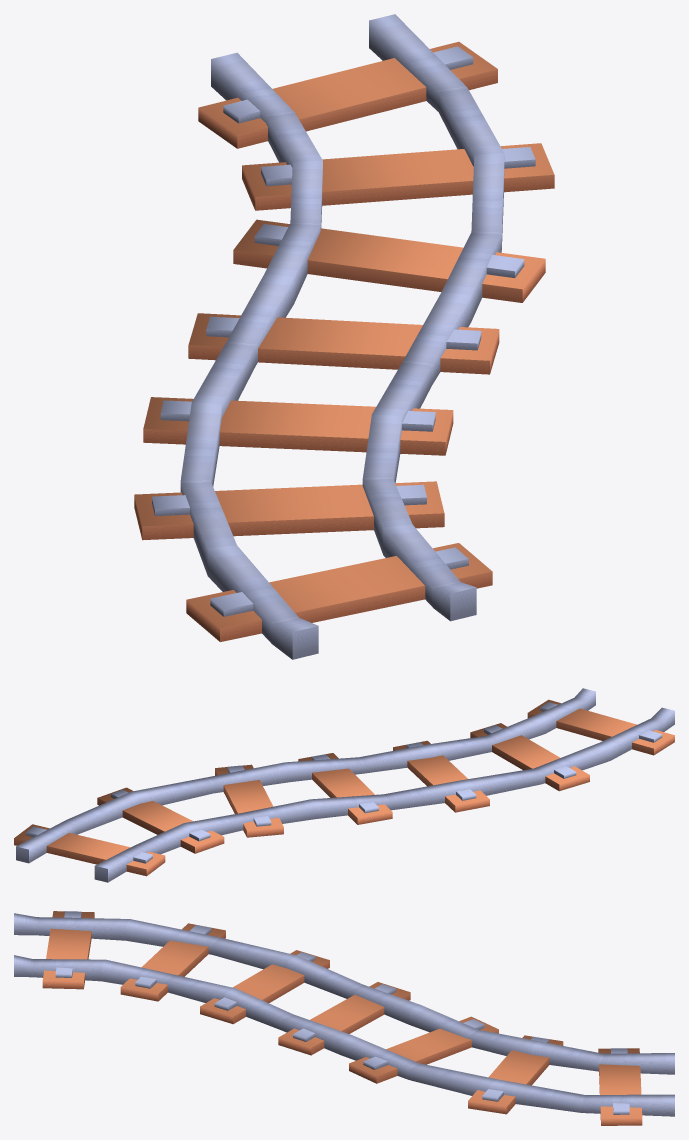
The model's file is railroad-damaged-curve.glb.
3 renders of one model, top to bottom at view 1: azimuth 30°, elevation 25°; view 2: azimuth 150°, elevation 25°; view 3: azimuth 270°, elevation 25°, orthographic. The views are drawn at different scales.
Parts seen in each view (by area): view 1: railroad-damaged-curve; view 2: railroad-damaged-curve; view 3: railroad-damaged-curve.
Part boxes in pixels (<box>): railroad-damaged-curve: <box>134,14,554,659</box>; railroad-damaged-curve: <box>14,688,674,882</box>; railroad-damaged-curve: <box>14,911,674,1125</box>.
Size of the model in its own units: 2.97 by 0.1001 by 4.
1 material, 1 textured.
